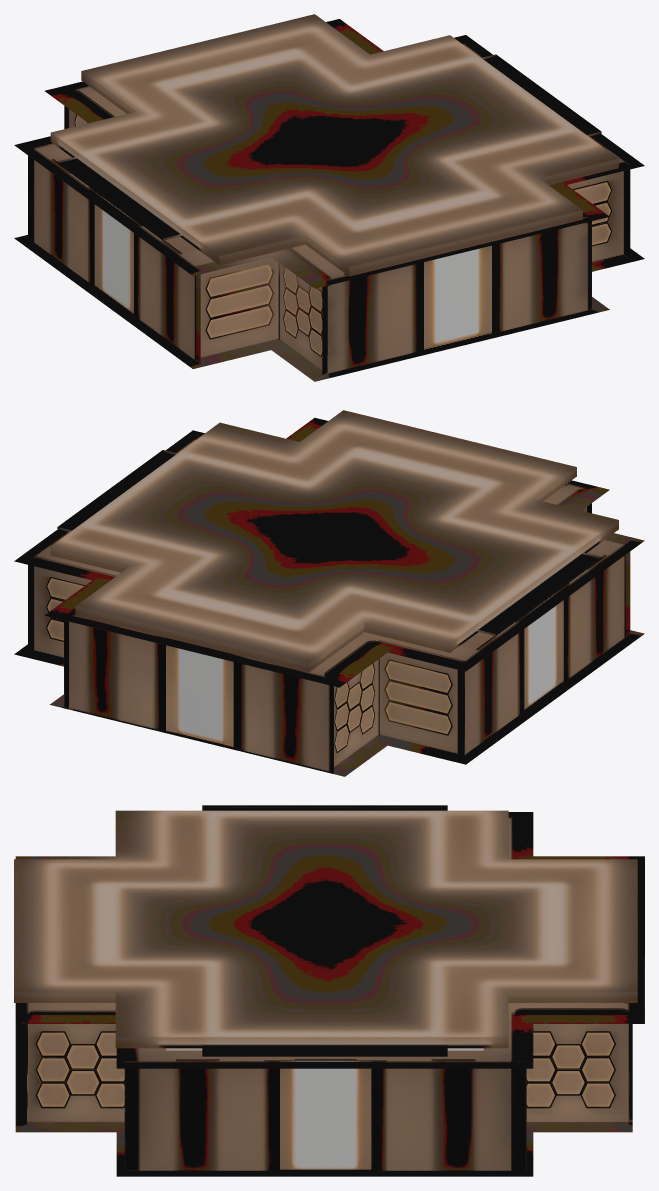
The model's file is Silken hall.glb.
3 views of the same model, one above another, from view 1: azimuth 30°, elevation 25°; view 2: azimuth 150°, elevation 25°; view 3: azimuth 270°, elevation 25° (orthographic). The views are drawn at different scales.
Parts seen in each view (by area): view 1: watch_store; view 2: watch_store; view 3: watch_store.
Boxes of the visible parts, x1,y1,x2,y2 form: watch_store: (14,14,644,381); watch_store: (14,410,644,776); watch_store: (14,805,644,1176).
Size of the model in its own units: 1.89 by 0.4345 by 1.97.
Materials: 8 (5 with a texture image).
